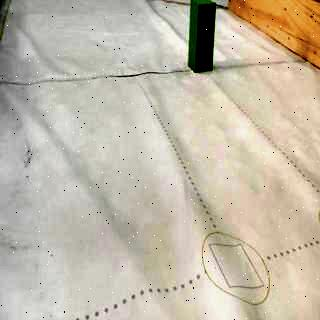greenbox: (189, 0, 217, 72)
